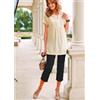jeans: (41, 54, 65, 82)
vestito: (44, 9, 66, 56)
